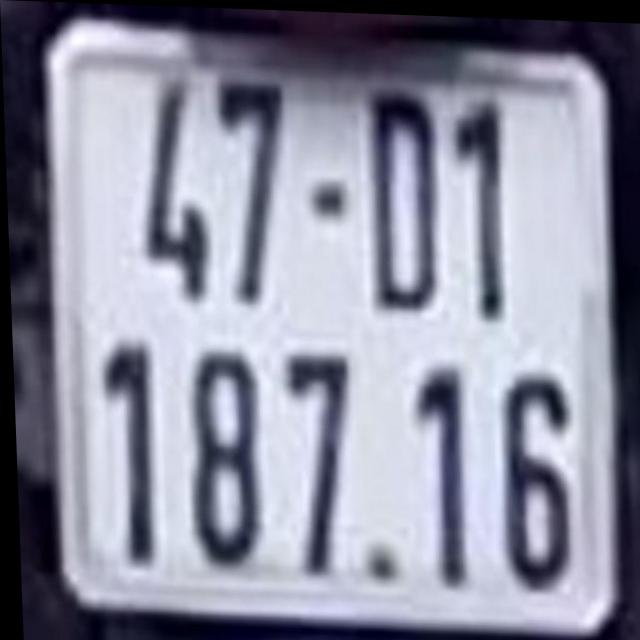1: (101, 341, 157, 564), (461, 96, 513, 319), (414, 365, 464, 583)
4: (141, 81, 210, 298)
6: (500, 366, 569, 581)
7: (281, 348, 350, 570), (213, 85, 281, 298)
8: (186, 346, 257, 562)
D: (367, 95, 436, 305)
